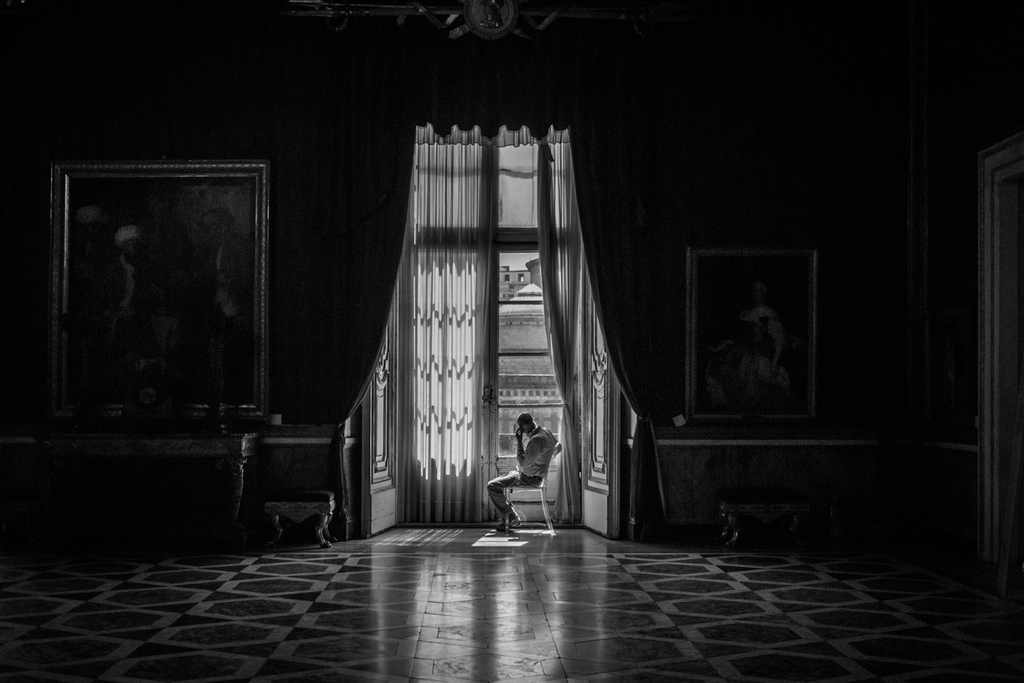Door: (395, 245, 492, 527), (573, 238, 626, 542)
